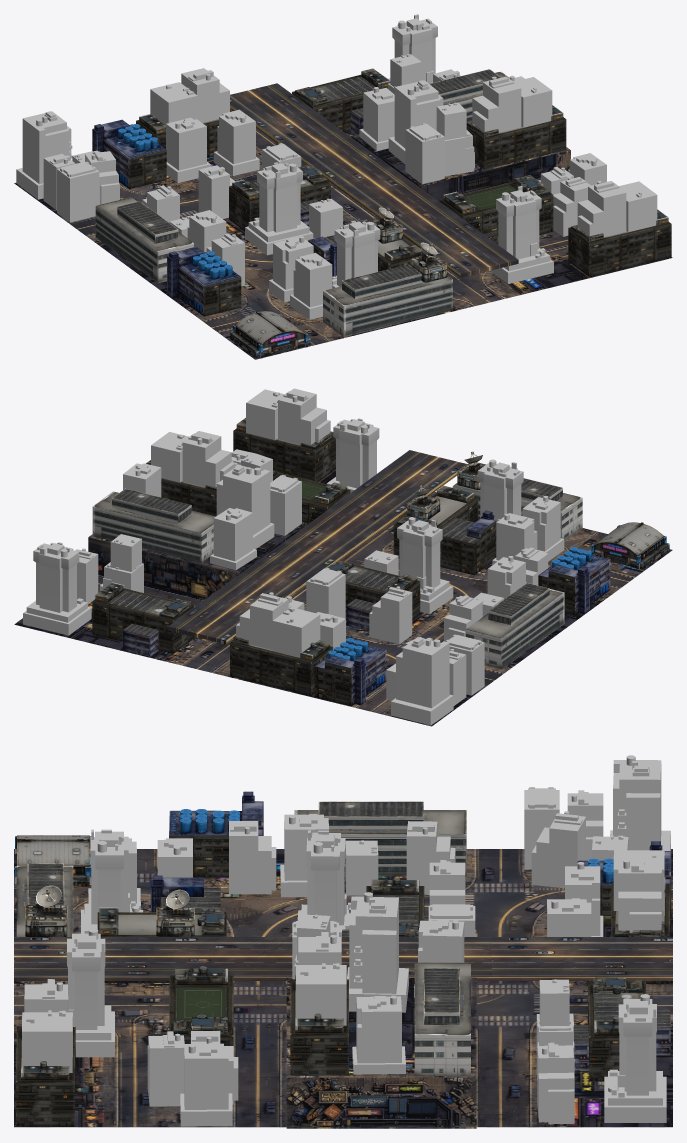
The model's file is CP_Slums_Pack_200x200_02.fbx.
3 renders of one model, top to bottom at view 1: azimuth 30°, elevation 25°; view 2: azimuth 150°, elevation 25°; view 3: azimuth 270°, elevation 25°, orthographic. The views are drawn at different scales.
Visible parts, largest first — view 1: CP_Slums_Pack_200x200_02; view 2: CP_Slums_Pack_200x200_02; view 3: CP_Slums_Pack_200x200_02.
Boxes of the visible parts, box(x1,y1,x2,y2) form: CP_Slums_Pack_200x200_02: box(14, 14, 672, 359); CP_Slums_Pack_200x200_02: box(14, 388, 672, 726); CP_Slums_Pack_200x200_02: box(14, 755, 672, 1128).
Size of the model in its own units: 20003 by 5119 by 20000.
